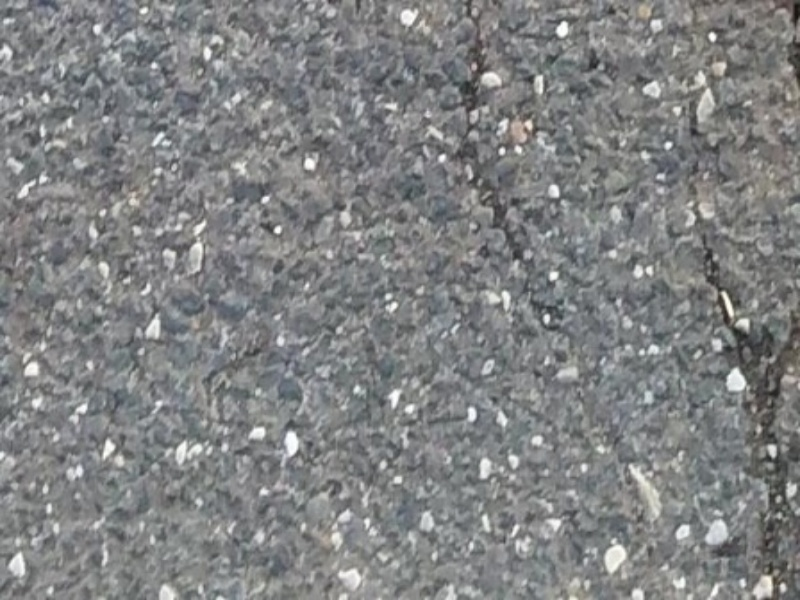crack: (460, 9, 577, 355), (705, 263, 795, 595)
